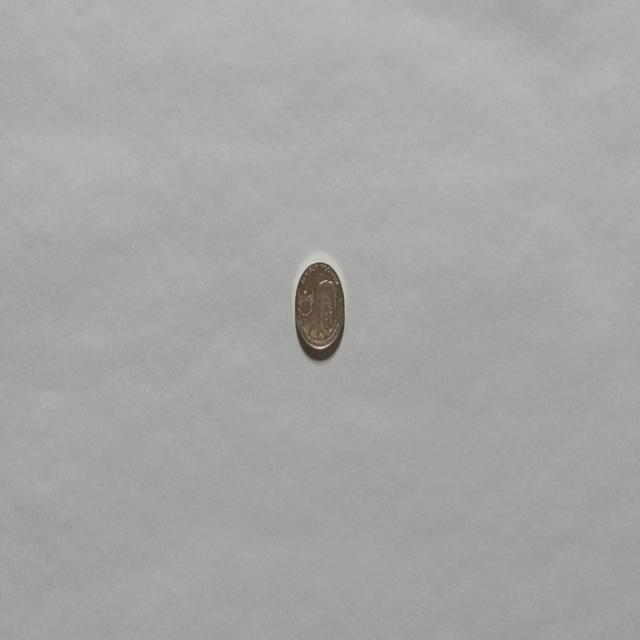seratus rupiah: (294, 258, 345, 356)
